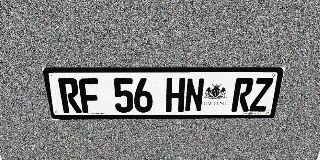5: (113, 78, 134, 113)
6: (133, 78, 153, 112)
F: (78, 78, 101, 113)
H: (166, 78, 185, 112)
N: (184, 78, 205, 112)
R: (58, 78, 82, 113), (231, 78, 254, 112)
Z: (249, 78, 274, 112)
